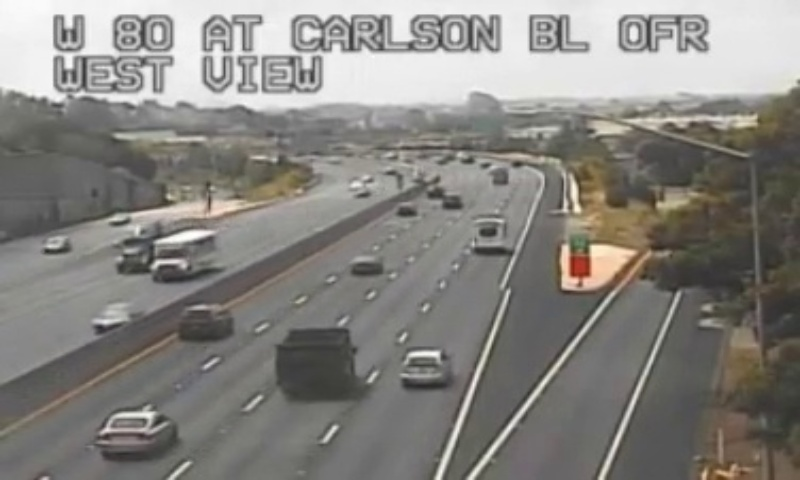bus: (472, 216, 504, 252)
car: (95, 411, 174, 454), (176, 304, 231, 339), (397, 350, 446, 384)
small-truck: (274, 330, 353, 396)
